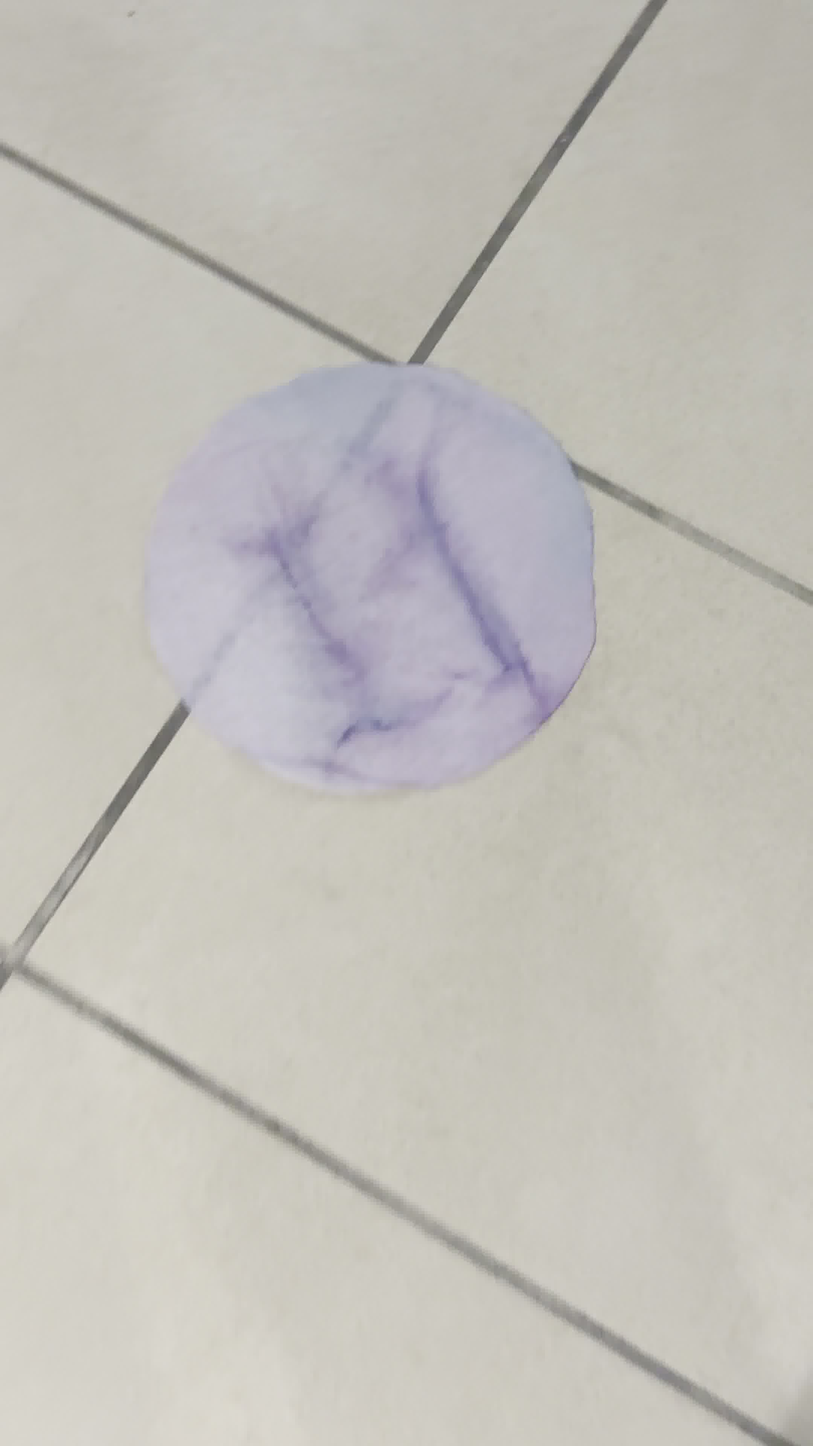Target: (142, 360, 594, 798)
